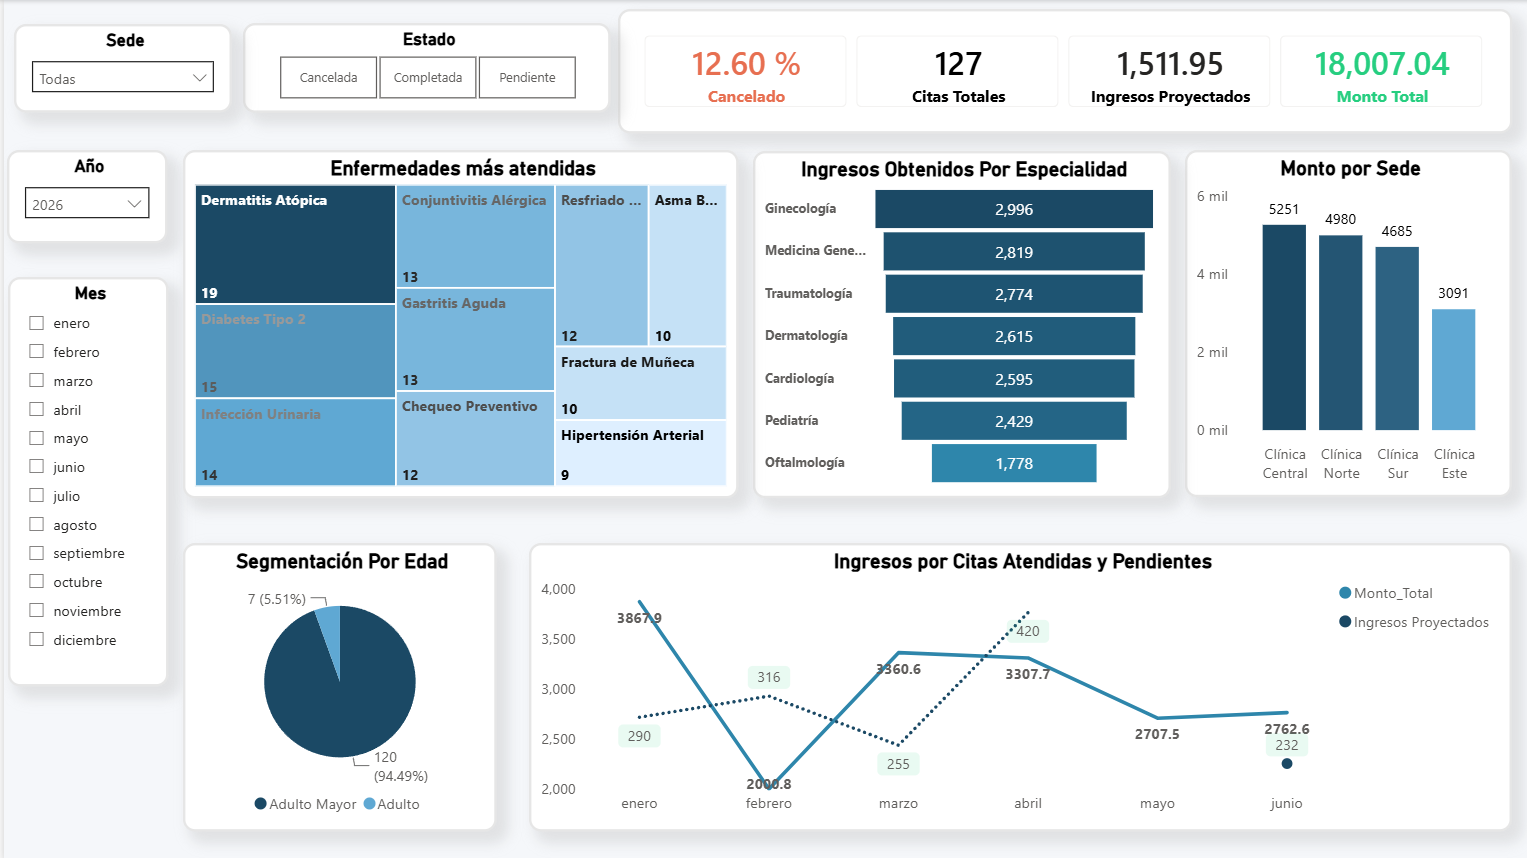

Layout of this report page (visuals, bound fields, positions):
{"tool":"powerbi","page":{"name":"Página 1","canvas":[1280,720],"ordinal":0},"visuals":[{"type":"cardVisual","fields":{"Data":["Medidas.% de cancelacion","Medidas.total_citas","Medidas.Ingresos Proyectados","Medidas.Monto_Total"]},"box":[512.6,7.2,746.9,104.1],"z":0},{"type":"slicer","title":"Estado","fields":{"Values":["vFact_CitaMedica.EstadoCita"]},"box":[199.3,18.9,307,74.5],"z":1000},{"type":"lineChart","title":"Ingresos por Citas Atendidas y Pendientes","fields":{"Category":["CALENDARIO.MES"],"Y":["Medidas.Monto_Total"],"Y2":["Medidas.Ingresos Proyectados"]},"box":[438.1,453.4,821.4,240.6],"z":2000},{"type":"slicer","title":"Mes","fields":{"Values":["CALENDARIO.MES"]},"box":[3.6,231.6,133.8,342],"z":3000},{"type":"slicer","title":"Año","fields":{"Values":["CALENDARIO.AÑO"]},"box":[2.7,125.7,133.8,78.1],"z":4000},{"type":"clusteredColumnChart","title":"Monto por Sede","fields":{"Category":["vDim_Sede.NombreSede"],"Y":["Medidas.Monto_Total"]},"box":[986.6,125.7,272.9,290],"z":5000},{"type":"funnel","title":"Ingresos Obtenidos Por Especialidad","fields":{"Category":["vDim_Doctor.NombreEspecialidad"],"Y":["Medidas.Monto_Total"]},"box":[625.7,126,349.1,290.2],"z":6000},{"type":"pieChart","title":"Segmentación Por Edad","fields":{"Y":["Medidas.Total Citas"],"Category":["vDim_Paciente.RangoEdad"]},"box":[149.9,453.4,262.1,240.6],"z":7000},{"type":"treemap","title":"Enfermedades más atendidas","fields":{"Values":["Medidas.Total Citas"],"Group":["vDim_Enfermedad.NombreEnfermedad"]},"box":[149.9,125.7,464.1,290.9],"z":8000},{"type":"slicer","title":"Sede","fields":{"Values":["vDim_Sede.NombreSede"]},"box":[8.1,19.8,182.2,73.6],"z":8001}]}

Visuals, with their boxes in screenshot pixels (x1, y1, x2, y2), scaled from the page's 1280x720 canvas onto the 1527x858 screenshot:
cardVisual - Medidas.% de cancelacion x Medidas.total_citas: {"left": 612, "top": 9, "right": 1503, "bottom": 133}
"Estado" slicer: {"left": 238, "top": 23, "right": 604, "bottom": 111}
"Ingresos por Citas Atendidas y Pendientes" lineChart: {"left": 523, "top": 540, "right": 1503, "bottom": 827}
"Mes" slicer: {"left": 4, "top": 276, "right": 164, "bottom": 684}
"Año" slicer: {"left": 3, "top": 150, "right": 163, "bottom": 243}
"Monto por Sede" clusteredColumnChart: {"left": 1177, "top": 150, "right": 1503, "bottom": 495}
"Ingresos Obtenidos Por Especialidad" funnel: {"left": 746, "top": 150, "right": 1163, "bottom": 496}
"Segmentación Por Edad" pieChart: {"left": 179, "top": 540, "right": 492, "bottom": 827}
"Enfermedades más atendidas" treemap: {"left": 179, "top": 150, "right": 732, "bottom": 496}
"Sede" slicer: {"left": 10, "top": 24, "right": 227, "bottom": 111}
